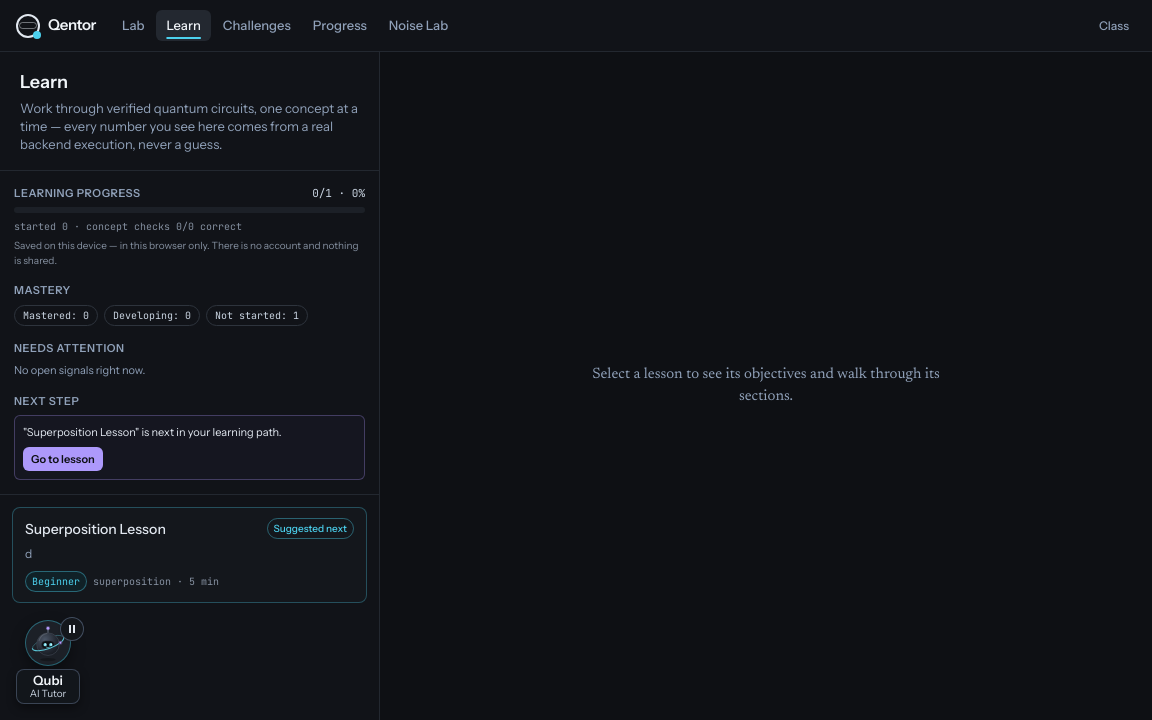
Learn leads on to its challenges › shows only the challenges that belong to the open lesson
Click the button "Superposition Lesson". click: (95, 529)
box: [12,507,367,603]
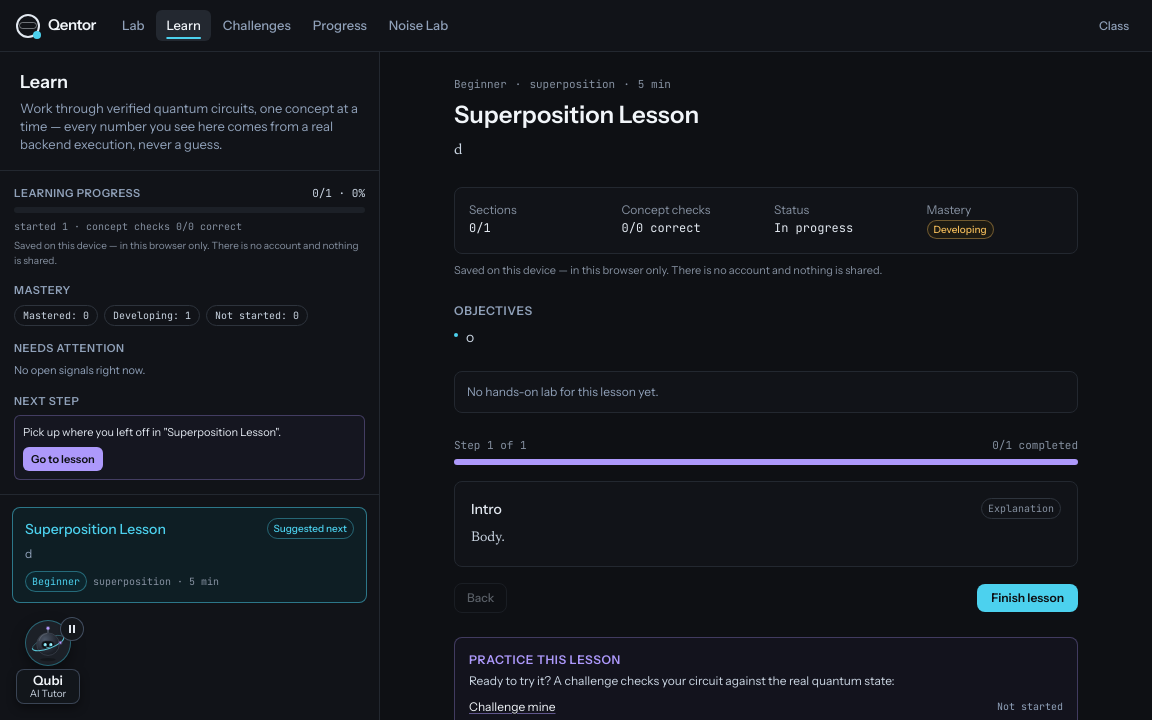
Now the text "Body." is shown, box [471,531,505,545]
Now the button "Challenge mine" is shown, box [469,698,556,716]
Now the text "Ready to try it" is shown, box [469,673,895,688]
